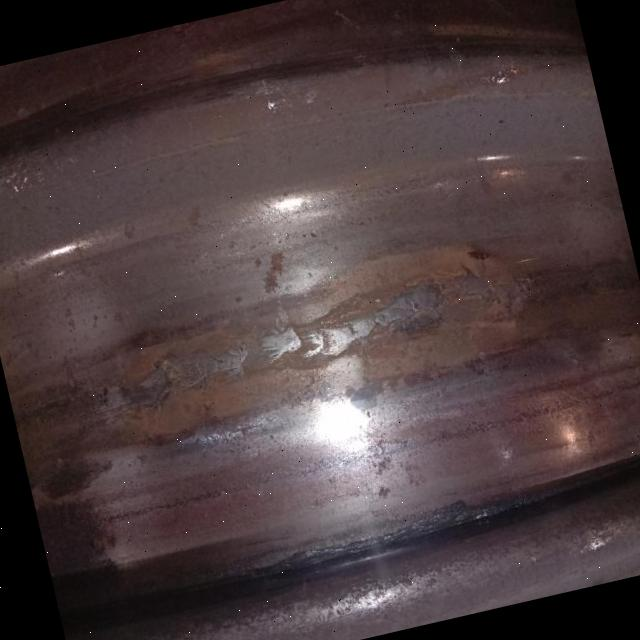Rollerpile: (84, 234, 536, 453)
